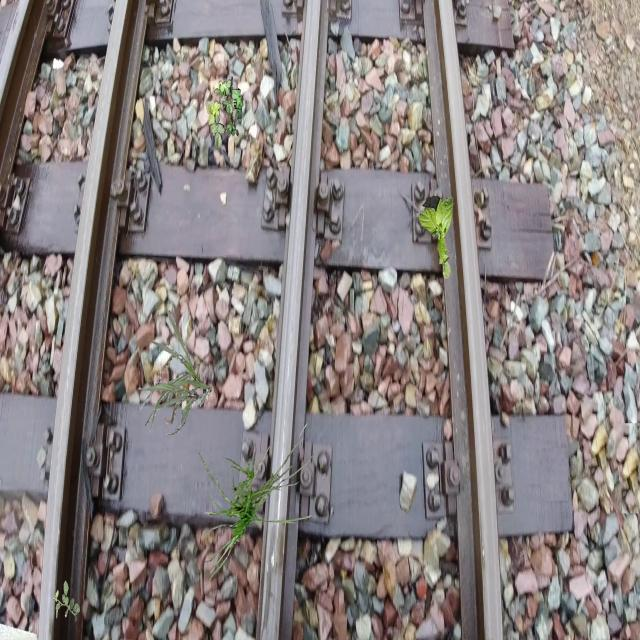Plant: (196, 422, 314, 586), (139, 310, 212, 434), (418, 196, 454, 280), (206, 76, 244, 150), (53, 581, 80, 622)
